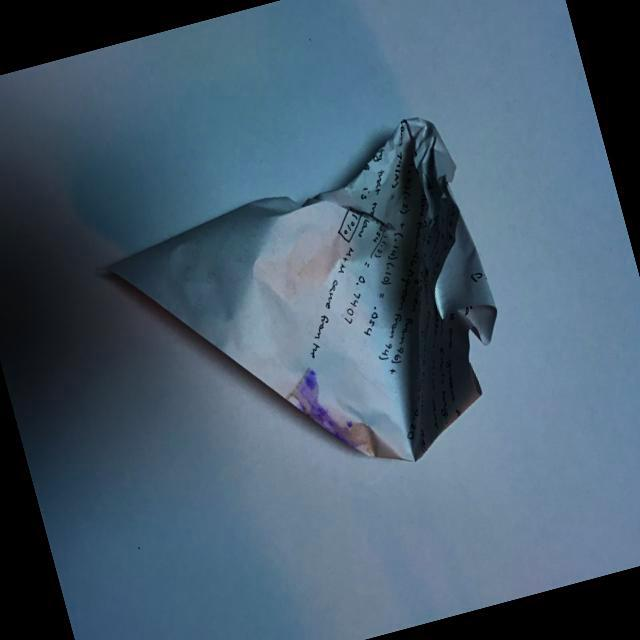paper: (64, 98, 548, 534)
